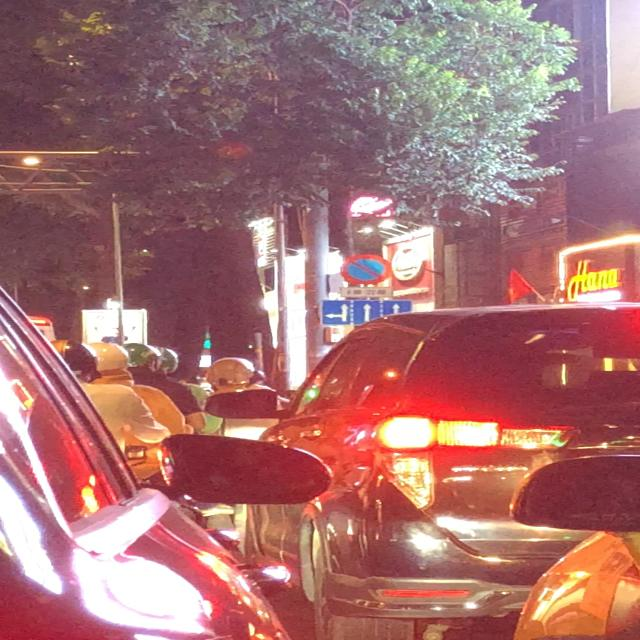Bien bao cam do xe: (340, 254, 398, 285)
